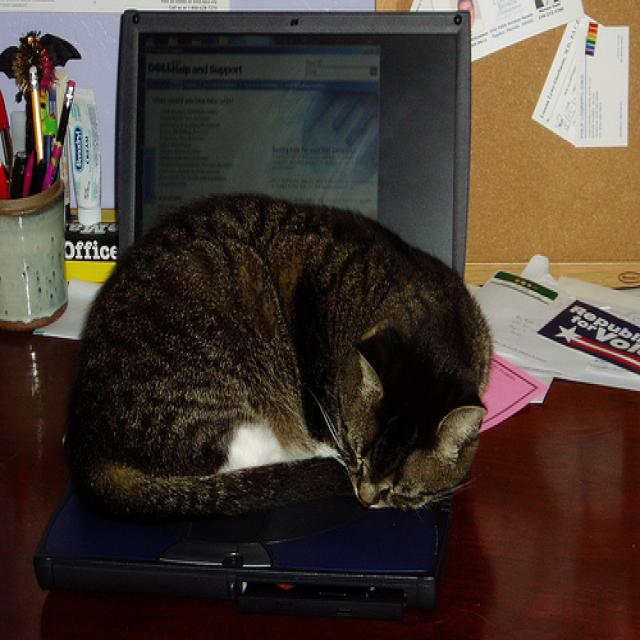cat: (69, 192, 496, 527)
